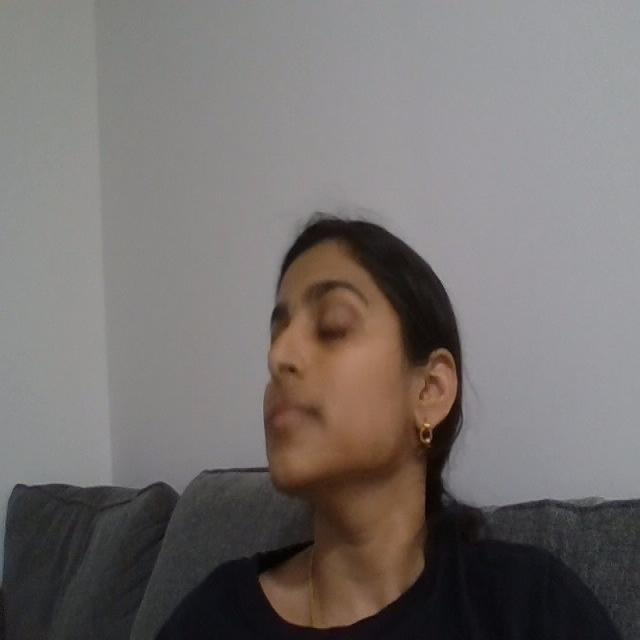No Hat: (226, 145, 448, 271)
